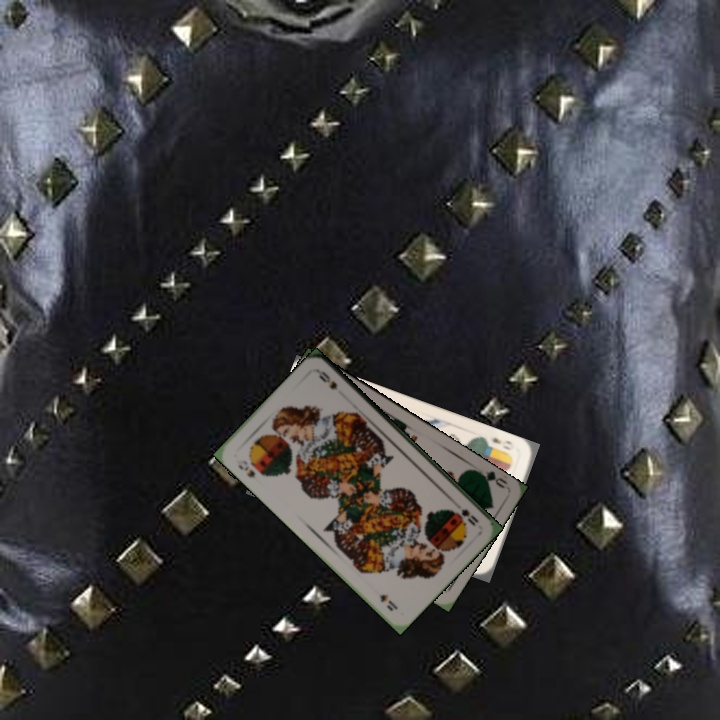EO: (486, 433, 514, 453)
GO: (471, 466, 510, 491)
SO: (452, 505, 481, 529), (233, 455, 258, 480)
